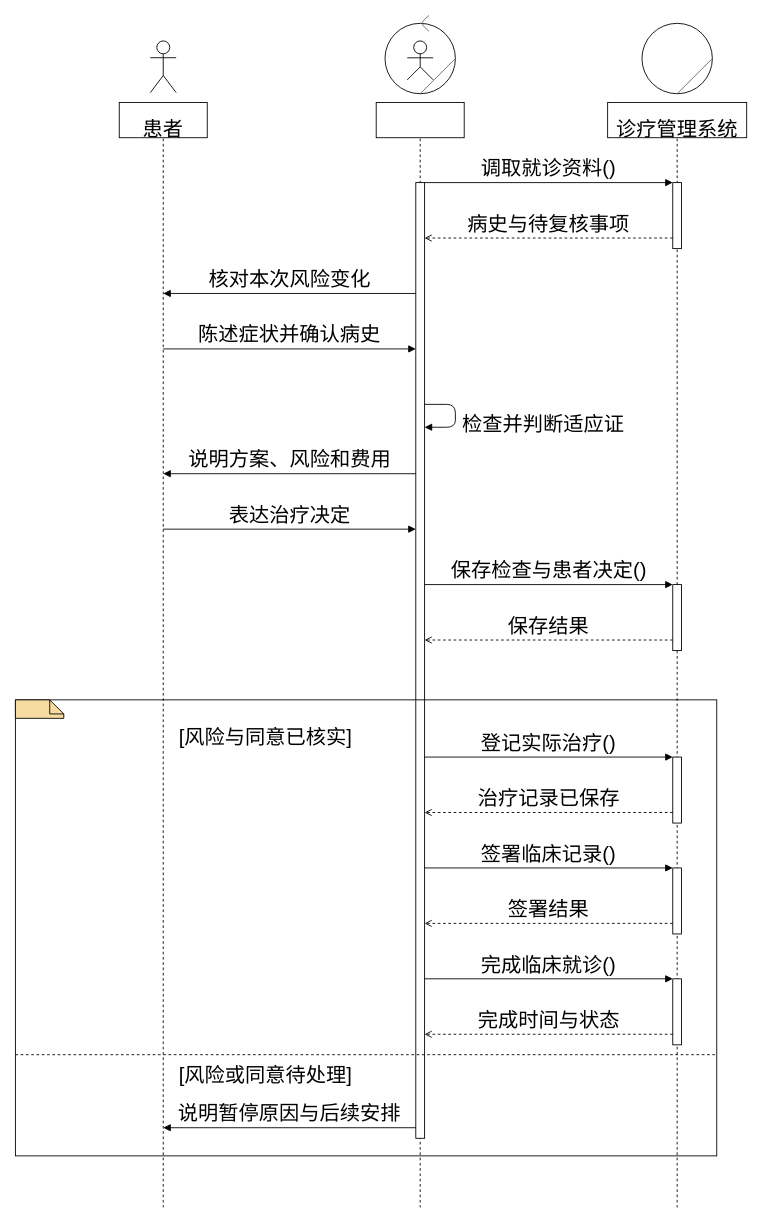
Image size: 762x1224. Some labels were removed from this diagram. Each missing label, with the centre of its shape:
"alt" belongs at (39,708).
"牙医" belongs at (419,120).
